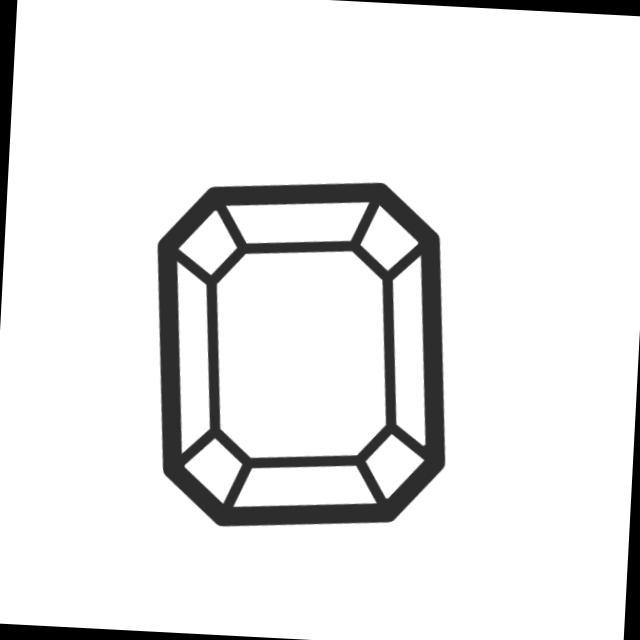emerald: (133, 164, 466, 546)
